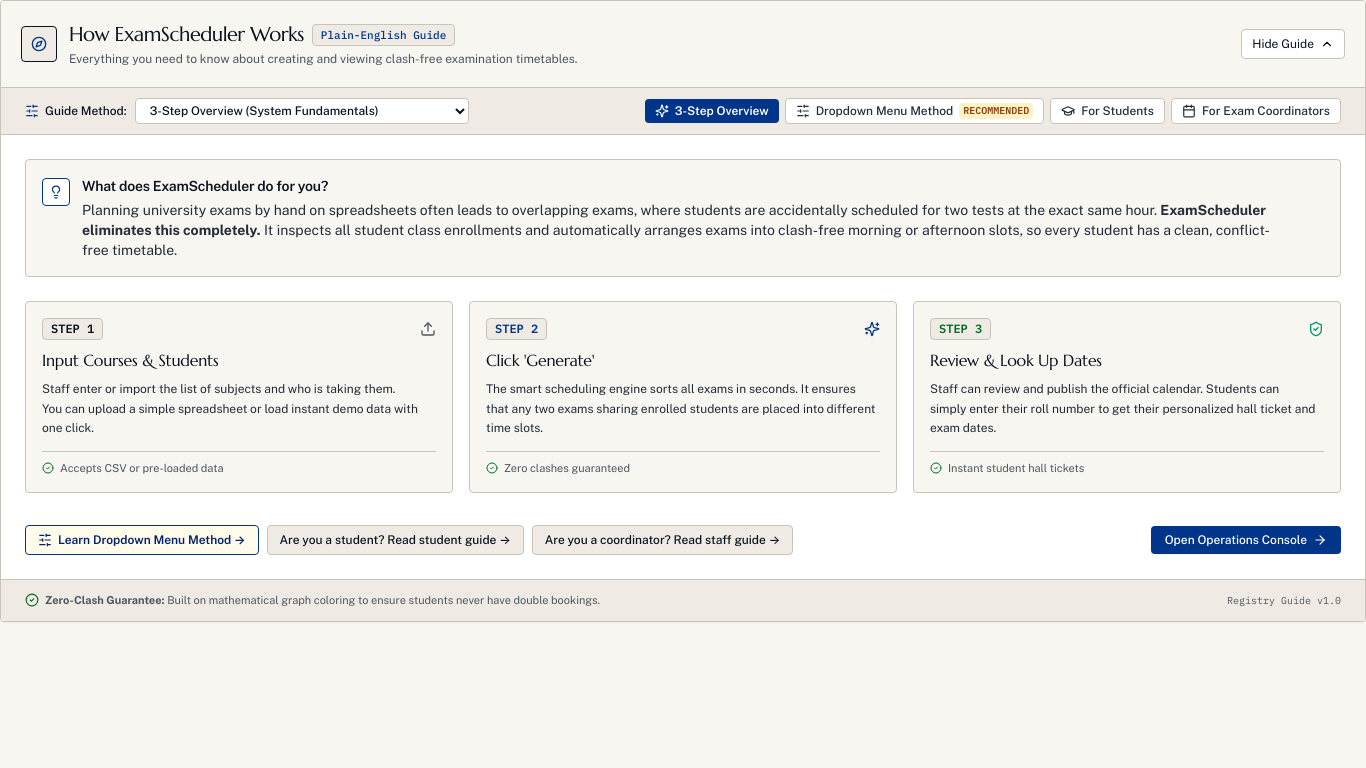
Scenario: QuickGuideBox Component › switches to student guide tab and displays candidate instructions
Click the button "For Students".
click(1108, 111)  # box [1050,98,1165,124]
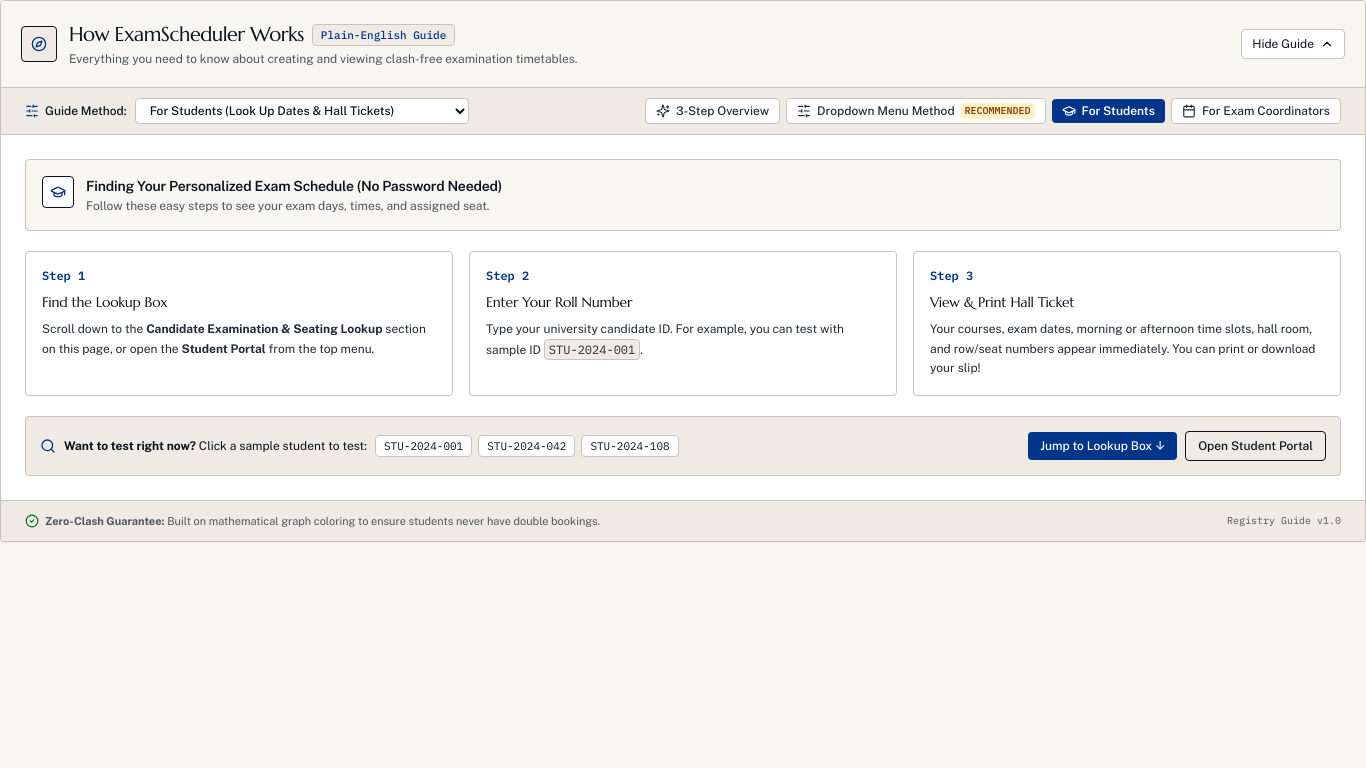
Now the heading "Finding Your Personalized Exam Schedule (No Password Needed)" is shown, box [86,176,502,196]
Now the heading "Enter Your Roll Number" is shown, box [486,293,632,311]
Now the heading "View & Print Hall Ticket" is shown, box [930,293,1074,311]
